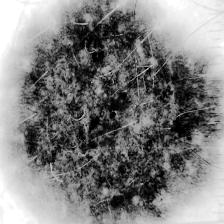Benign Marking or Mole: (7, 0, 224, 224)
